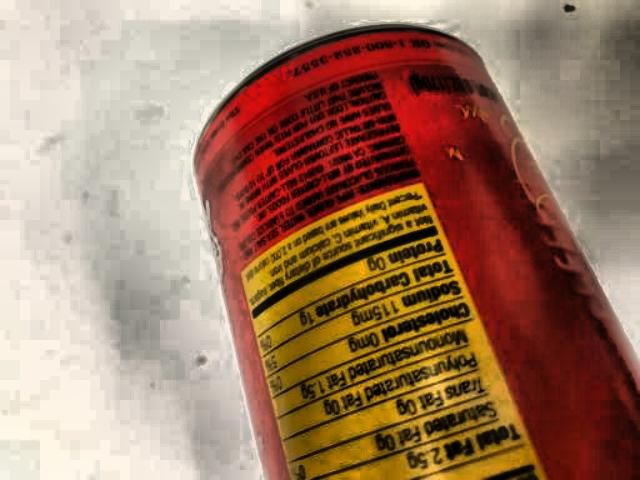Almennt: (184, 9, 640, 480)
